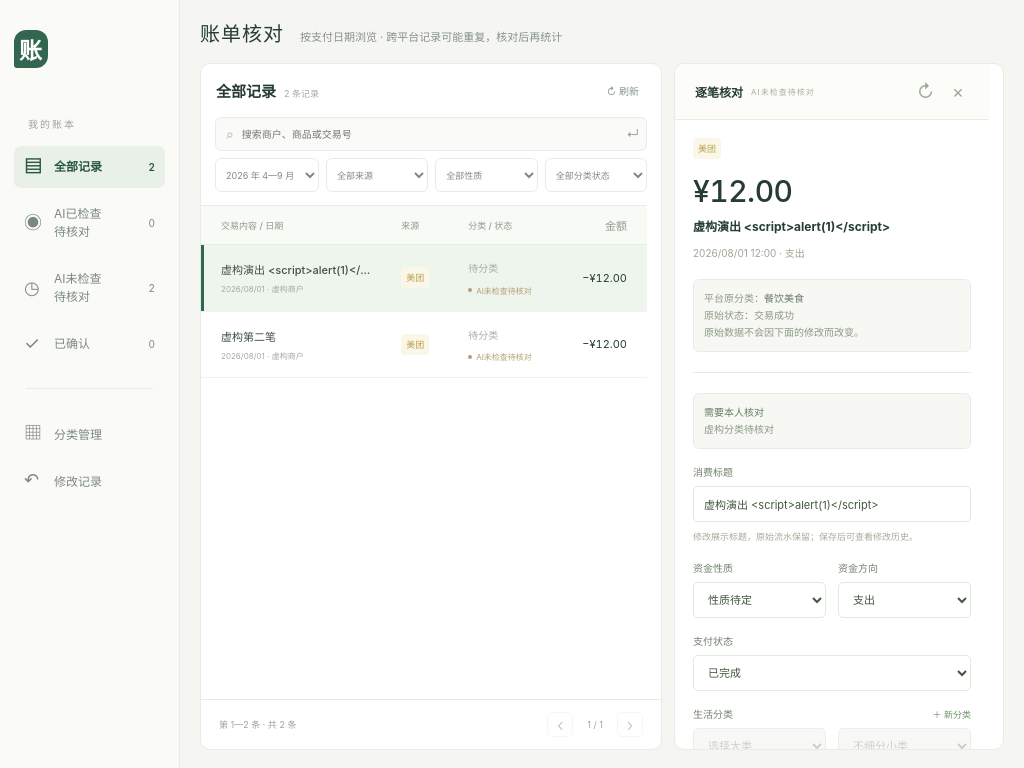
it: moves to a remaining bill after saving hidden income without reporting a failed save
Check: the field labelled "消费标题" is shown, box [693,486,971,522]
Select "收入（保存后隐藏）" in the dropdown labelled "资金性质": [760, 600] box [693,582,826,618]
(page scrolled)
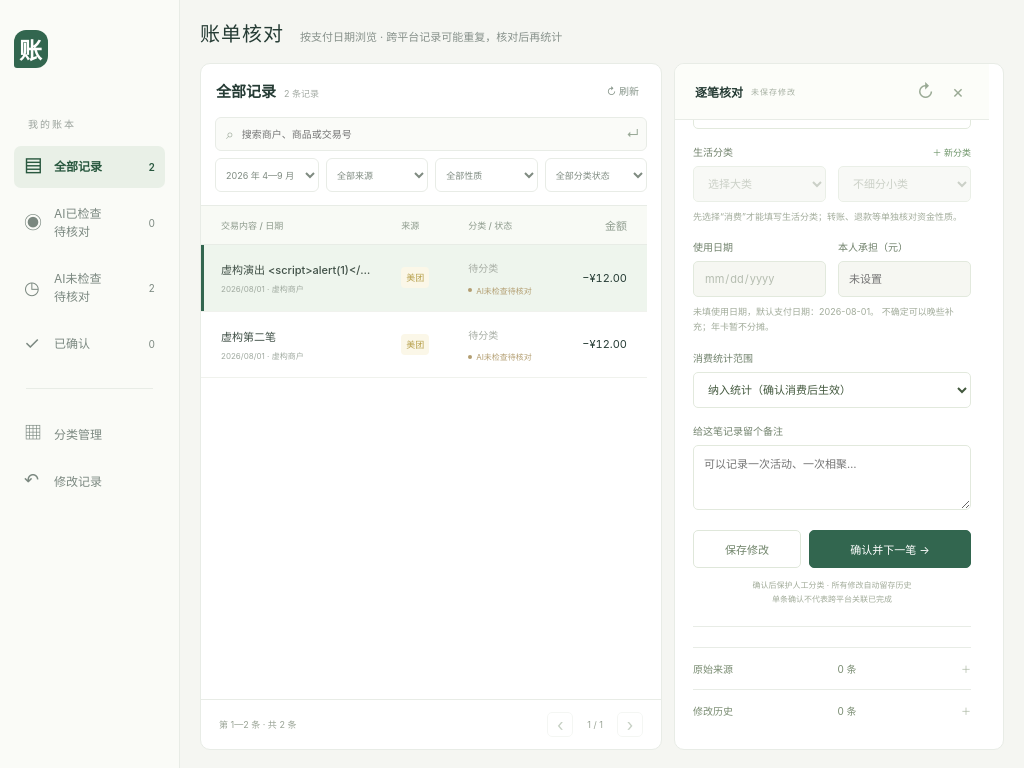
Click the button "保存修改": [747, 549] box [693,530,801,568]
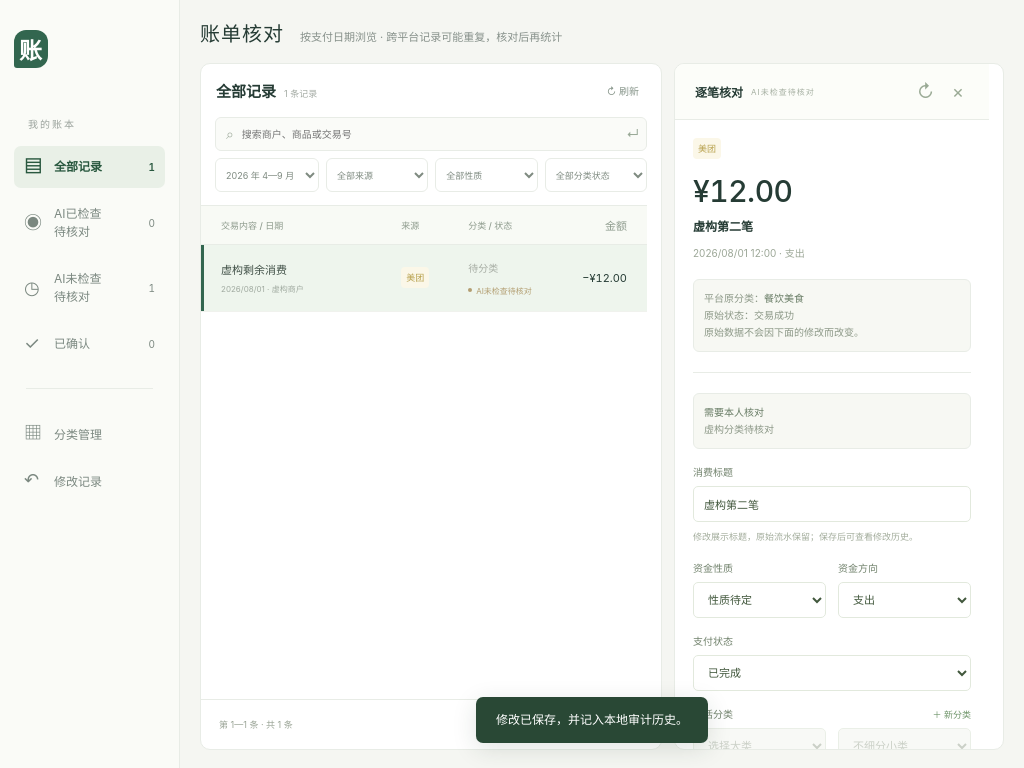
Check: the row "虚构剩余消费 2026/08/01 · 虚构商户 美团 待分类 AI未检查待核对 −¥12.00" is shown, box [201,244,647,311]
Check: the text "虚构演出" is gone
Check: the message shows "修改已保存", box [496,712,688,727]
